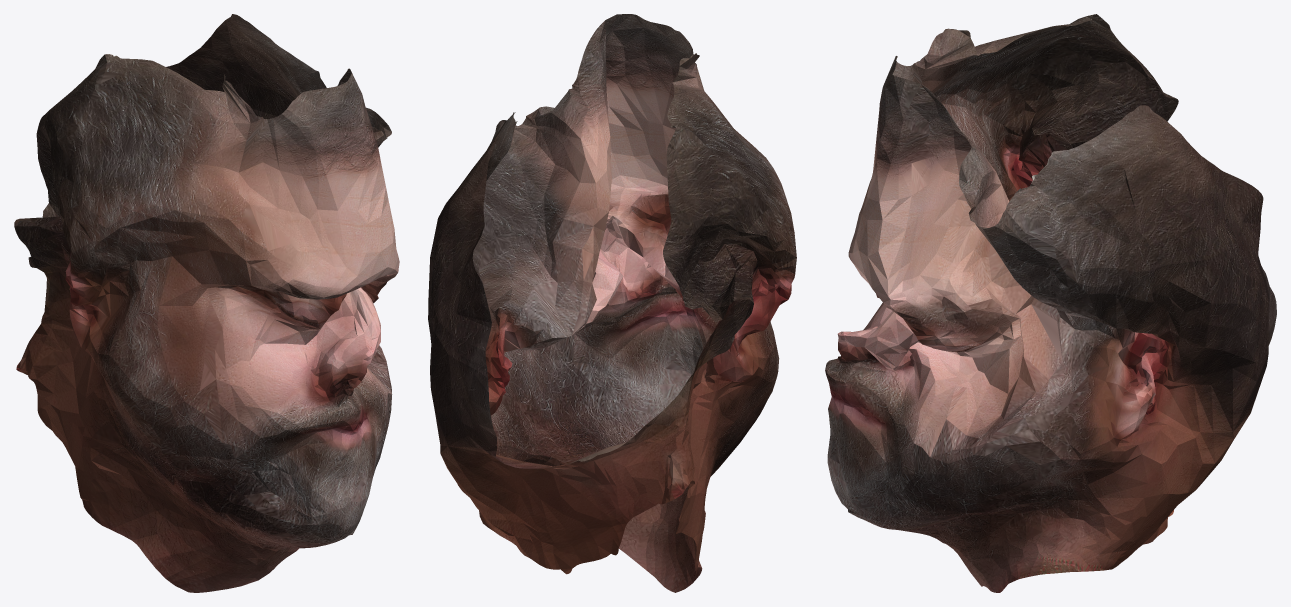
File: BUSTO_2.gltf
3 renders of one model, left to right at view 1: azimuth 30°, elevation 25°; view 2: azimuth 150°, elevation 25°; view 3: azimuth 270°, elevation 25°, orthographic. The views are drawn at different scales.
Visible parts, largest first — view 1: Busto 15_3_Gu; view 2: Busto 15_3_Gu; view 3: Busto 15_3_Gu.
Part boxes in pixels (x1,y1,x2,y2): Busto 15_3_Gu: (14, 14, 399, 592); Busto 15_3_Gu: (428, 14, 796, 592); Busto 15_3_Gu: (825, 14, 1276, 592).
Size of the model in its own units: 2.81 by 4.46 by 3.35.
1 material, 1 textured.
